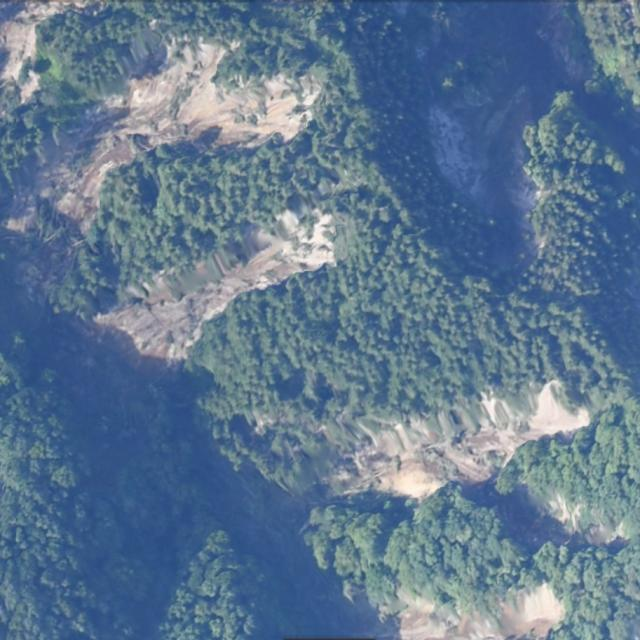landslide: (338, 3, 591, 289), (33, 40, 320, 233), (95, 210, 335, 361), (330, 381, 591, 501), (400, 585, 565, 640), (0, 1, 84, 102)
